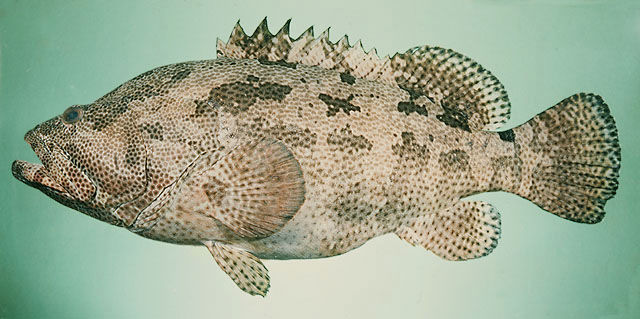fish: (11, 15, 622, 298)
